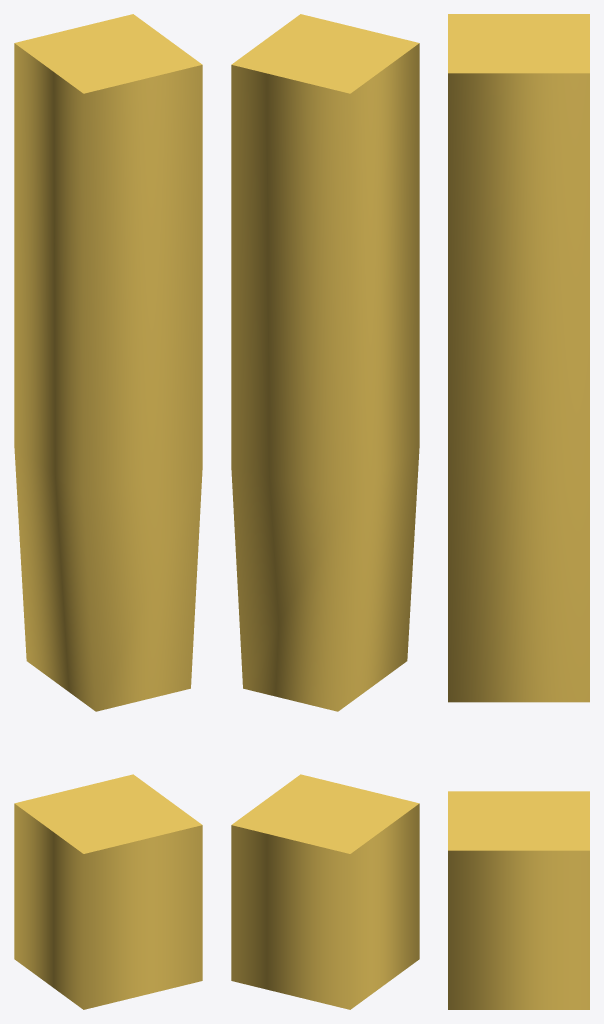
File: alert.obj
3 views of the same model, side by side, from view 1: azimuth 30°, elevation 25°; view 2: azimuth 150°, elevation 25°; view 3: azimuth 270°, elevation 25° (orthographic). The views are drawn at different scales.
Visible parts, largest first — view 1: text1; view 2: text1; view 3: text1.
Boxes of the visible parts, x1,y1,x2,y2 form: text1: [14, 14, 202, 1009]; text1: [231, 14, 419, 1009]; text1: [448, 14, 589, 1009].
Size of the model in its own units: 0.1982 by 1.46 by 0.2.
